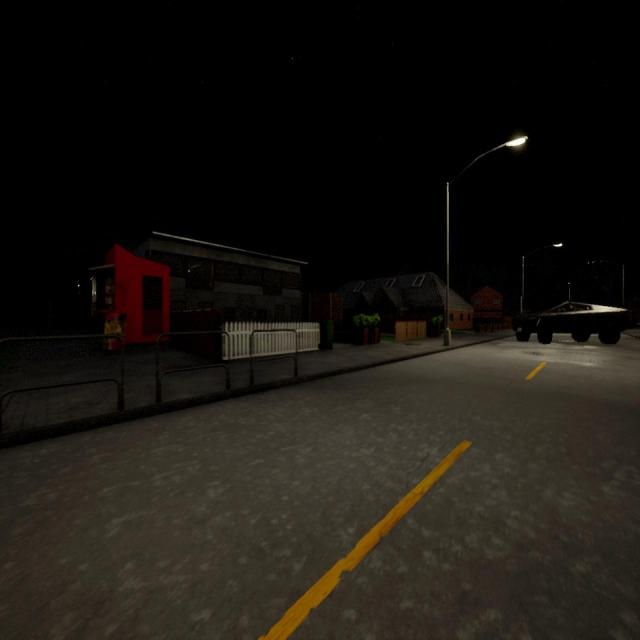Vehicle: (512, 301, 630, 343)
